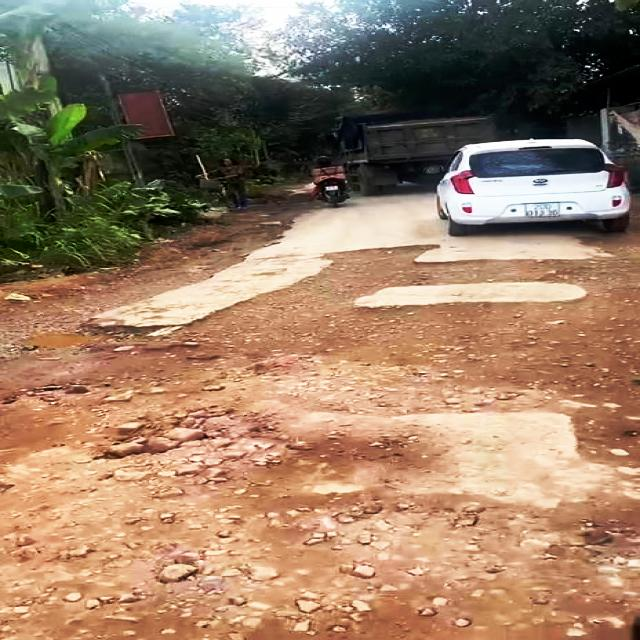pothole: (0, 308, 640, 640), (147, 240, 640, 462), (8, 321, 144, 361)
